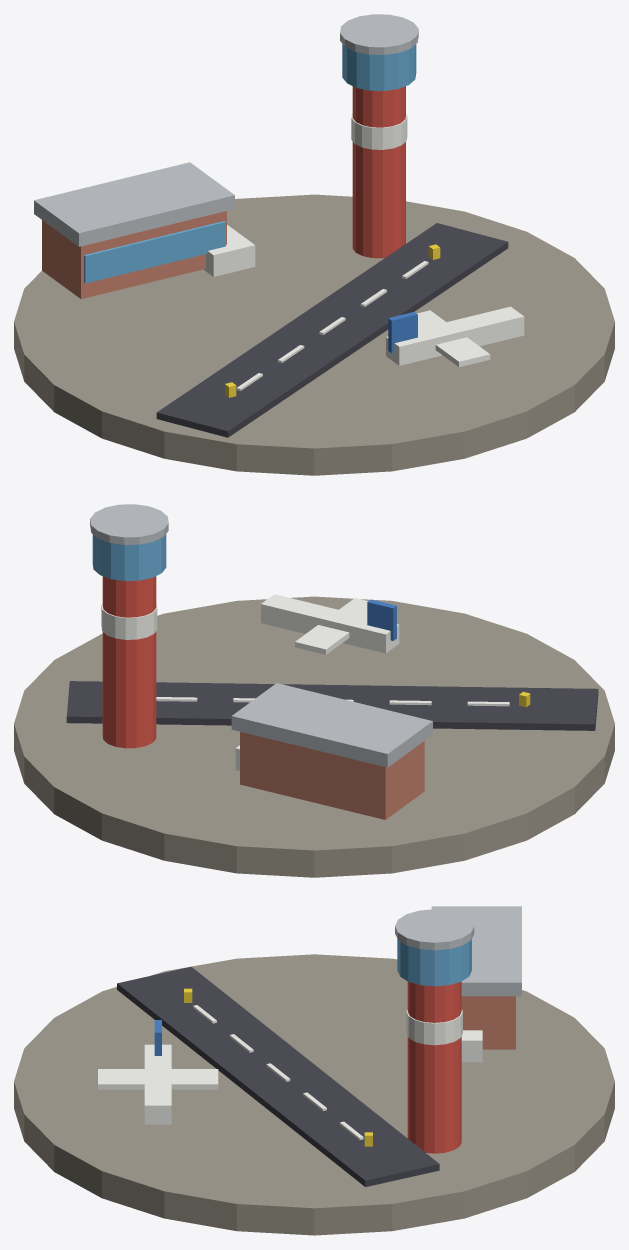
File: airport.glb
3 views of the same model, one above another, from view 1: azimuth 30°, elevation 25°; view 2: azimuth 150°, elevation 25°; view 3: azimuth 270°, elevation 25° (orthographic).
Visible parts, largest first — view 1: air_base, air_runway, air_gate_roof, air_tower, air_gate_a, air_gate_glass, air_plane_body, air_tower_cab, air_tower_roof, air_jetway, air_plane_wing, air_tower_band (+1 smaller); view 2: air_base, air_runway, air_gate_a, air_gate_roof, air_tower, air_plane_body, air_tower_cab, air_tower_roof, air_plane_wing, air_tower_band, air_plane_tail; view 3: air_base, air_runway, air_tower, air_gate_roof, air_tower_cab, air_tower_roof, air_gate_a, air_plane_body, air_plane_wing, air_tower_band, air_jetway.
Boxes of the visible parts, x1,y1,x2,y2 form: air_base: [14, 194, 614, 475]; air_runway: [156, 223, 508, 437]; air_gate_roof: [34, 162, 234, 246]; air_tower: [352, 86, 405, 258]; air_gate_a: [42, 211, 226, 299]; air_gate_glass: [84, 221, 225, 283]; air_plane_body: [386, 306, 524, 365]; air_tower_cab: [342, 44, 416, 90]; air_tower_roof: [340, 14, 418, 54]; air_jetway: [203, 224, 255, 276]; air_plane_wing: [417, 310, 490, 367]; air_tower_band: [351, 113, 407, 149]; air_base: [14, 596, 614, 877]; air_runway: [66, 681, 598, 730]; air_gate_a: [240, 731, 424, 819]; air_gate_roof: [231, 683, 432, 767]; air_tower: [102, 576, 156, 748]; air_plane_body: [261, 594, 399, 653]; air_tower_cab: [92, 534, 166, 580]; air_tower_roof: [90, 504, 168, 544]; air_plane_wing: [295, 598, 367, 654]; air_tower_band: [101, 603, 157, 639]; air_plane_tail: [367, 599, 396, 640]; air_base: [14, 954, 614, 1235]; air_runway: [117, 966, 439, 1186]; air_tower: [407, 981, 461, 1153]; air_gate_roof: [431, 906, 521, 996]; air_tower_cab: [397, 939, 471, 986]; air_tower_roof: [395, 909, 474, 950]; air_gate_a: [461, 996, 515, 1049]; air_plane_body: [144, 1044, 171, 1124]; air_plane_wing: [98, 1069, 218, 1089]; air_tower_band: [406, 1009, 462, 1045]; air_jetway: [461, 1030, 482, 1062].
Size of the model in its own units: 1 by 0.447 by 1.
